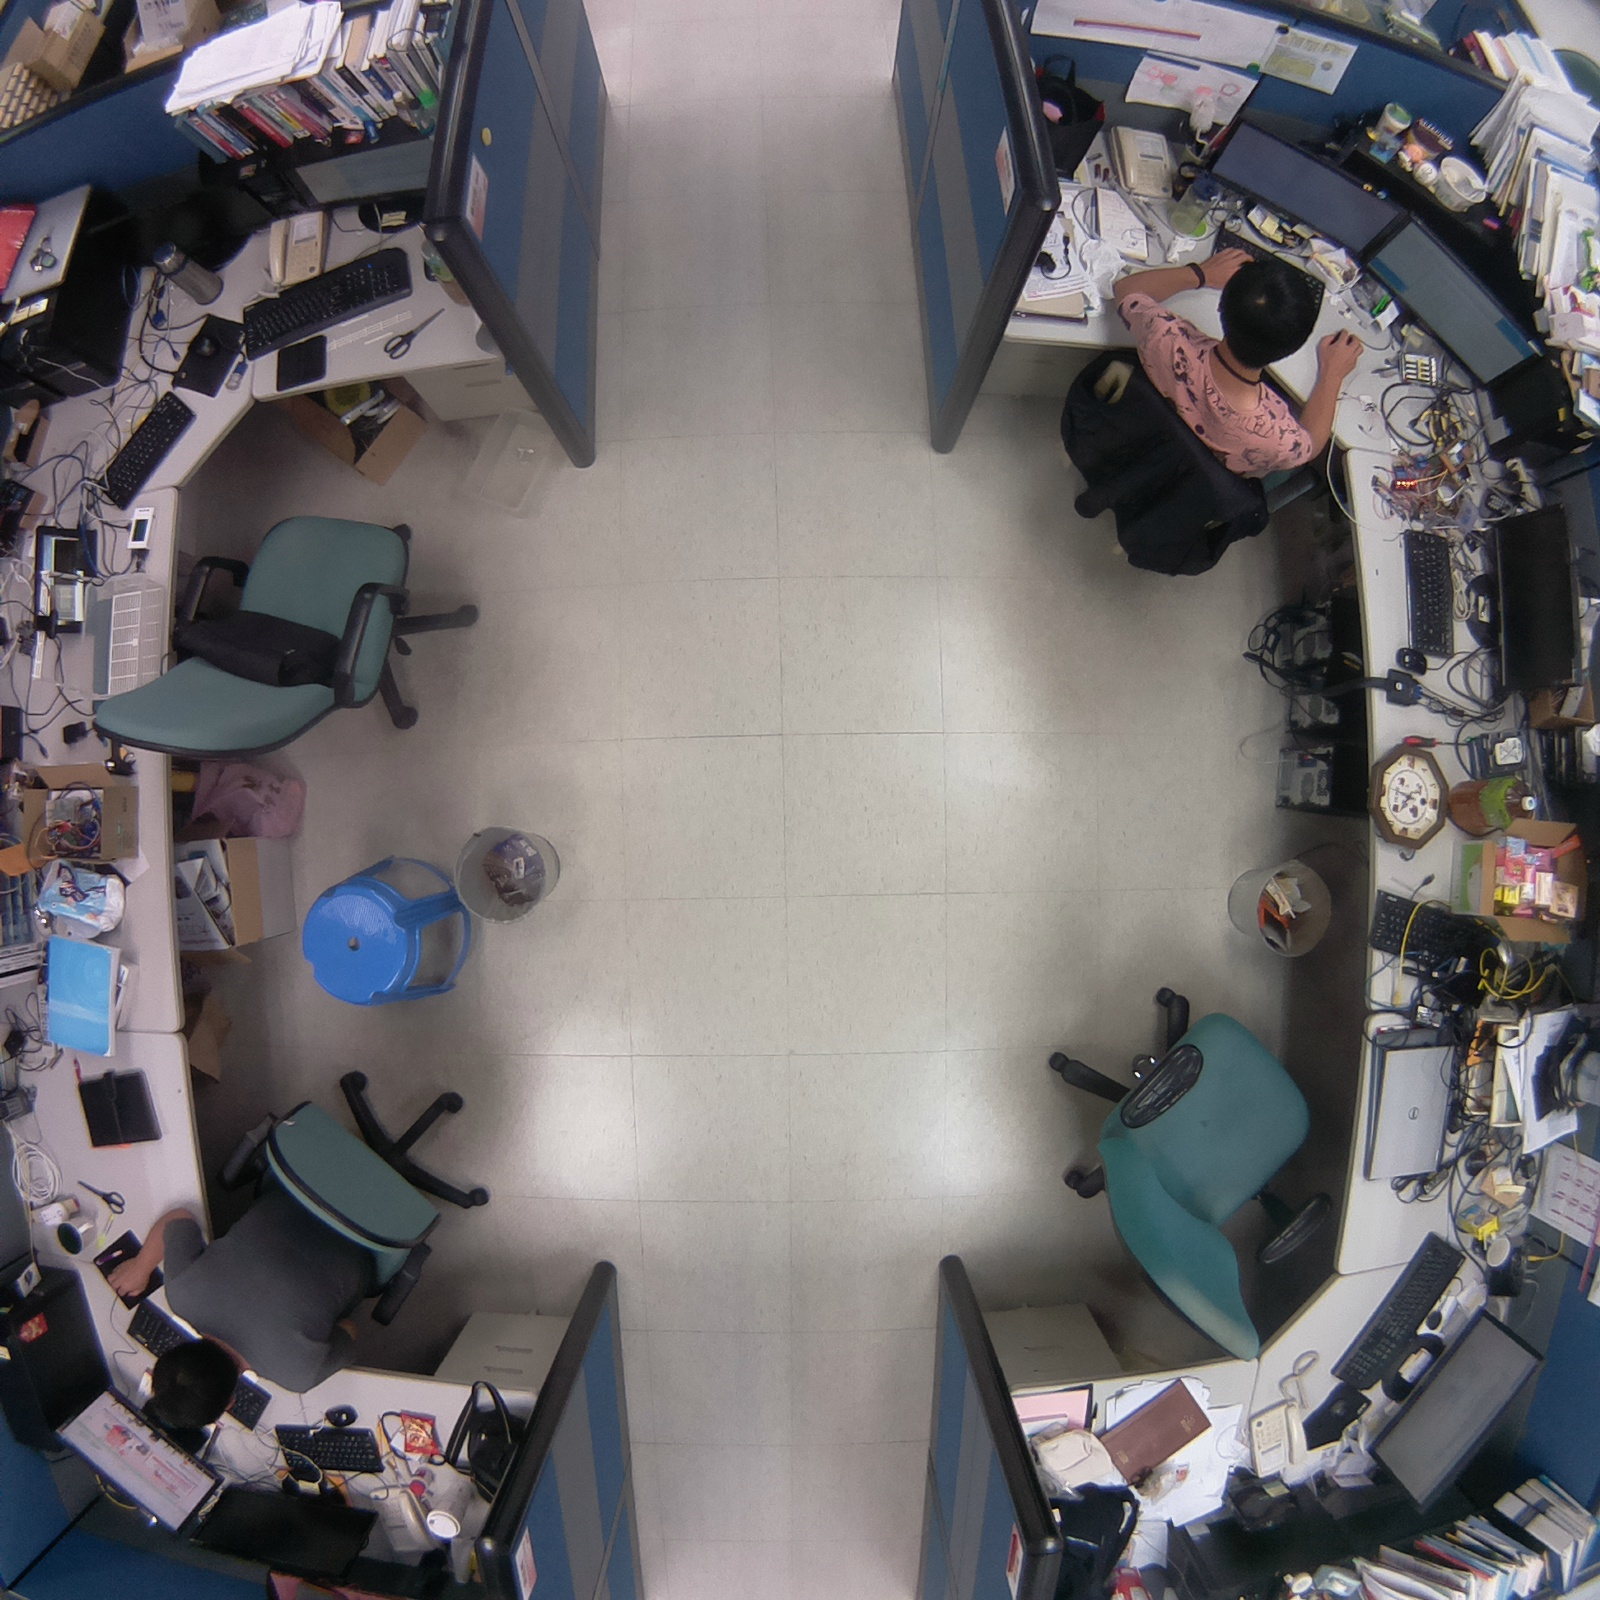chair: (76, 486, 496, 778), (1040, 958, 1322, 1383)
head: (1213, 245, 1333, 367), (137, 1341, 248, 1441)
sitting: (95, 1060, 506, 1441), (1035, 223, 1369, 591)
